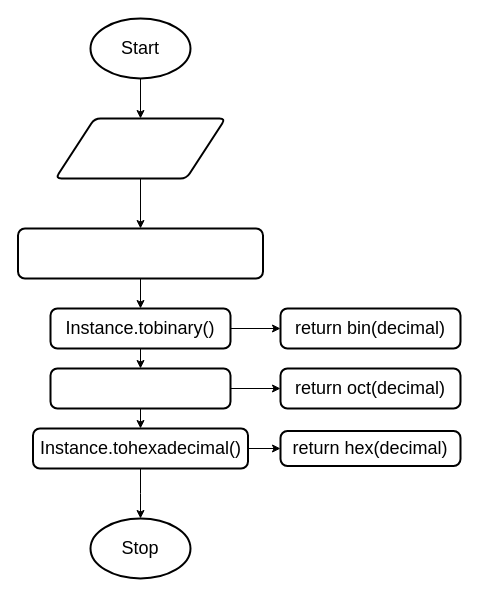
The diagram is 479 pixels wide and 596 high, and some of its shapes have lost their labels. The centre of each missing label's shape, as x and y in pixels:
Create an Instance for Solution class: (x=140, y=253)
input : decimal: (x=140, y=148)
Instance.tooctal(): (x=140, y=388)
